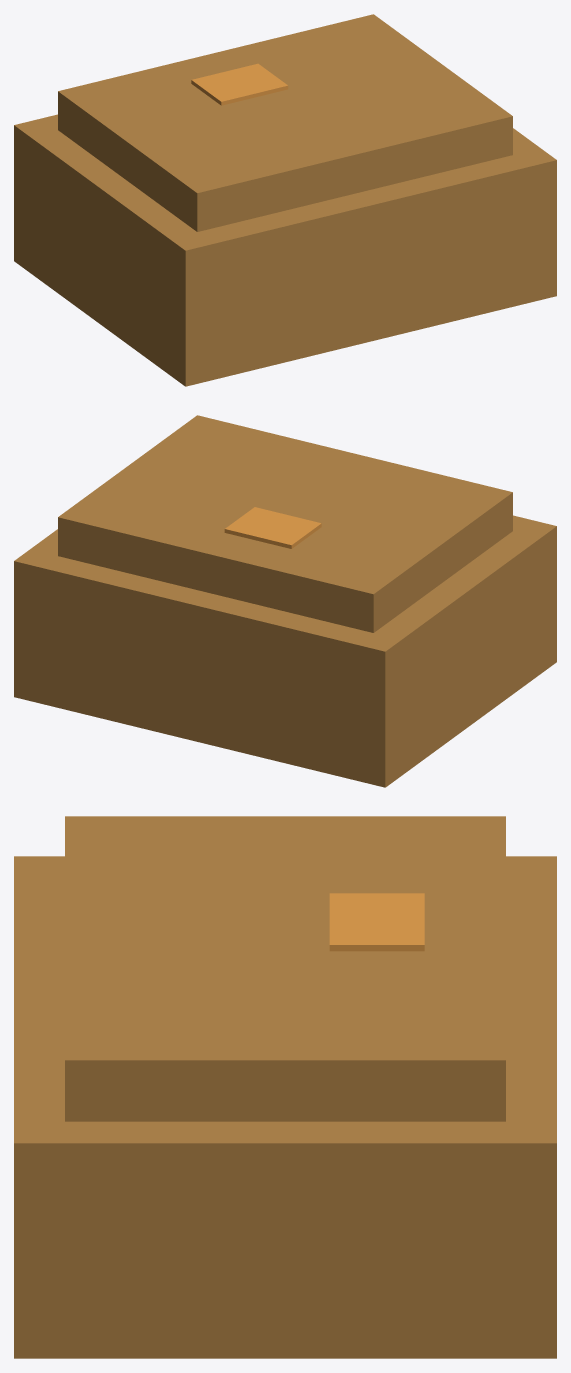
The model's file is product_can_medley.glb.
3 views of the same model, one above another, from view 1: azimuth 30°, elevation 25°; view 2: azimuth 150°, elevation 25°; view 3: azimuth 270°, elevation 25° (orthographic). The views are drawn at different scales.
Visible parts, largest first — view 1: ProductArt_body, ProductArt_accent; view 2: ProductArt_body, ProductArt_accent; view 3: ProductArt_body, ProductArt_accent.
Part boxes in pixels (x1,y1,x2,y2): ProductArt_body: [14, 14, 556, 386]; ProductArt_accent: [191, 63, 288, 105]; ProductArt_body: [14, 415, 556, 787]; ProductArt_accent: [224, 507, 321, 548]; ProductArt_body: [14, 816, 556, 1358]; ProductArt_accent: [329, 893, 424, 951].
Size of the model in its own units: 0.24 by 0.1104 by 0.192.
